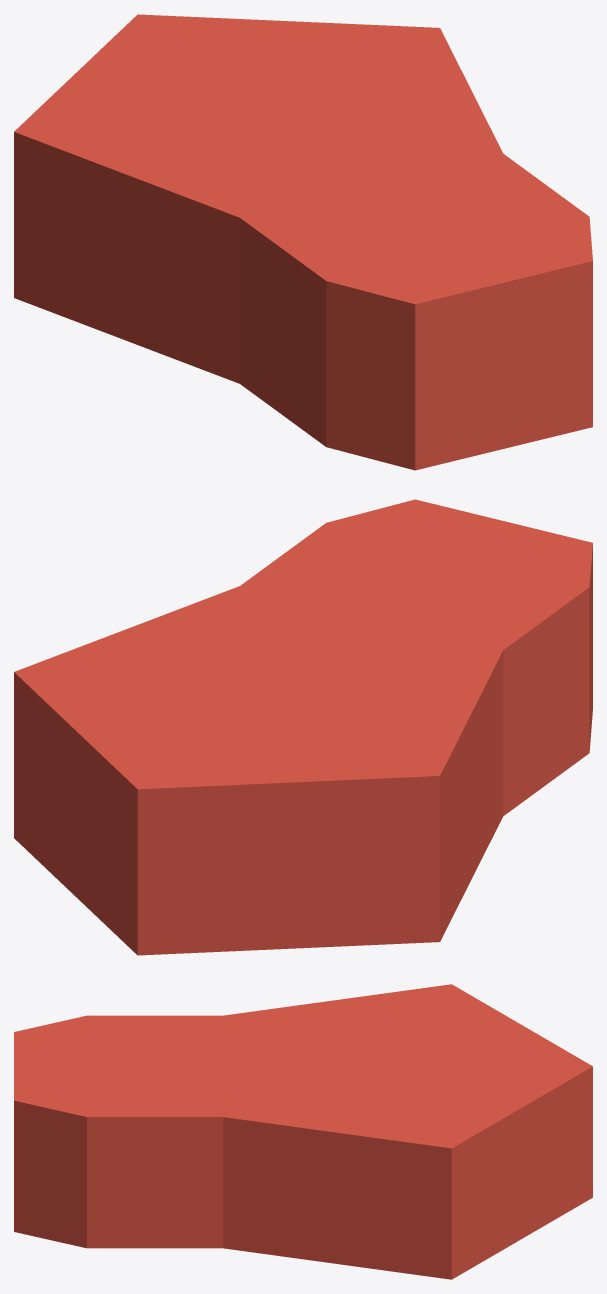
Rendered from meat.glb.
3 views of the same model, one above another, from view 1: azimuth 30°, elevation 25°; view 2: azimuth 150°, elevation 25°; view 3: azimuth 270°, elevation 25° (orthographic). The views are drawn at different scales.
Parts seen in each view (by area): view 1: meat; view 2: meat; view 3: meat.
Boxes of the visible parts, x1,y1,x2,y2 form: meat: (14,14,592,470); meat: (14,499,592,955); meat: (14,984,592,1279).
Bounding box in the file's own units: 0.3158 × 0.1177 × 0.4705.
